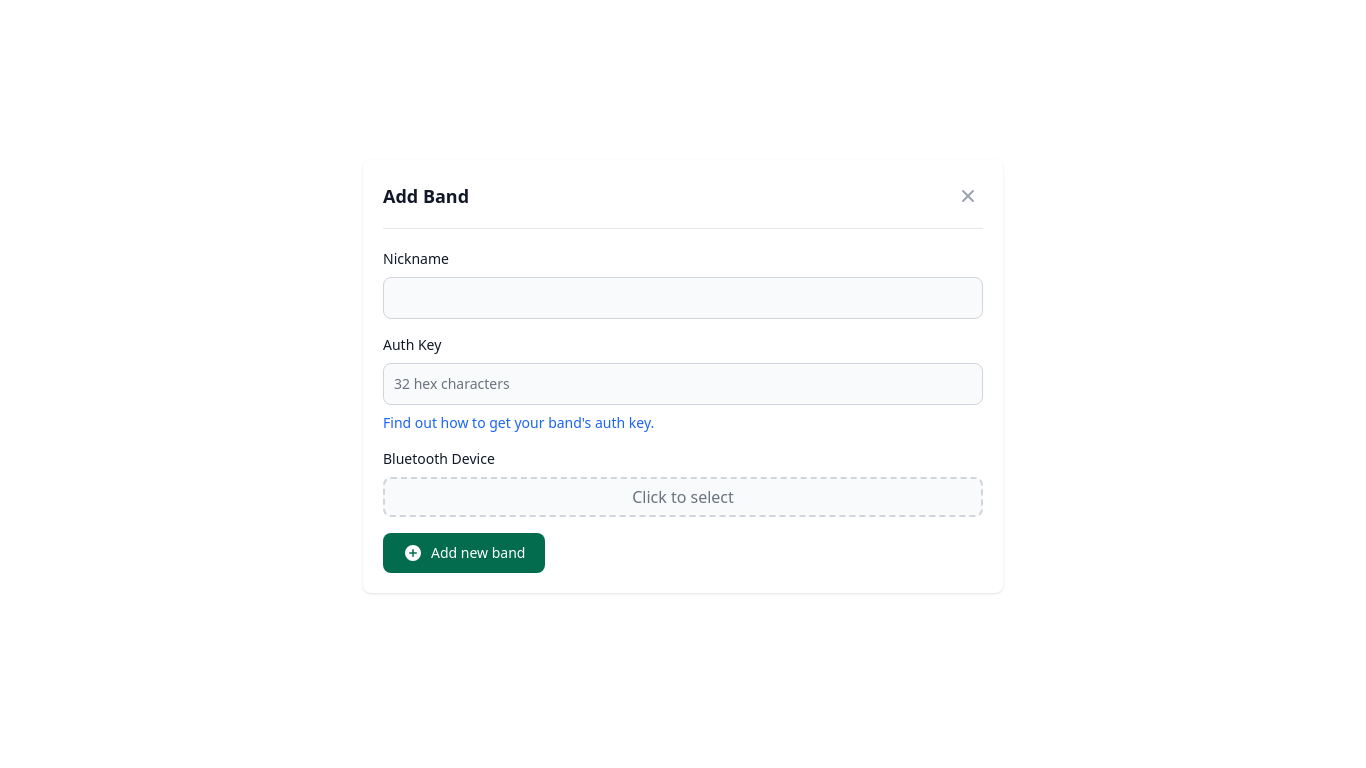
Test: the device not selected warning › should alert the user that a device wasn't selected
Type "Test" into the field with id "nickname" at (683, 298), box [383, 276, 983, 318]
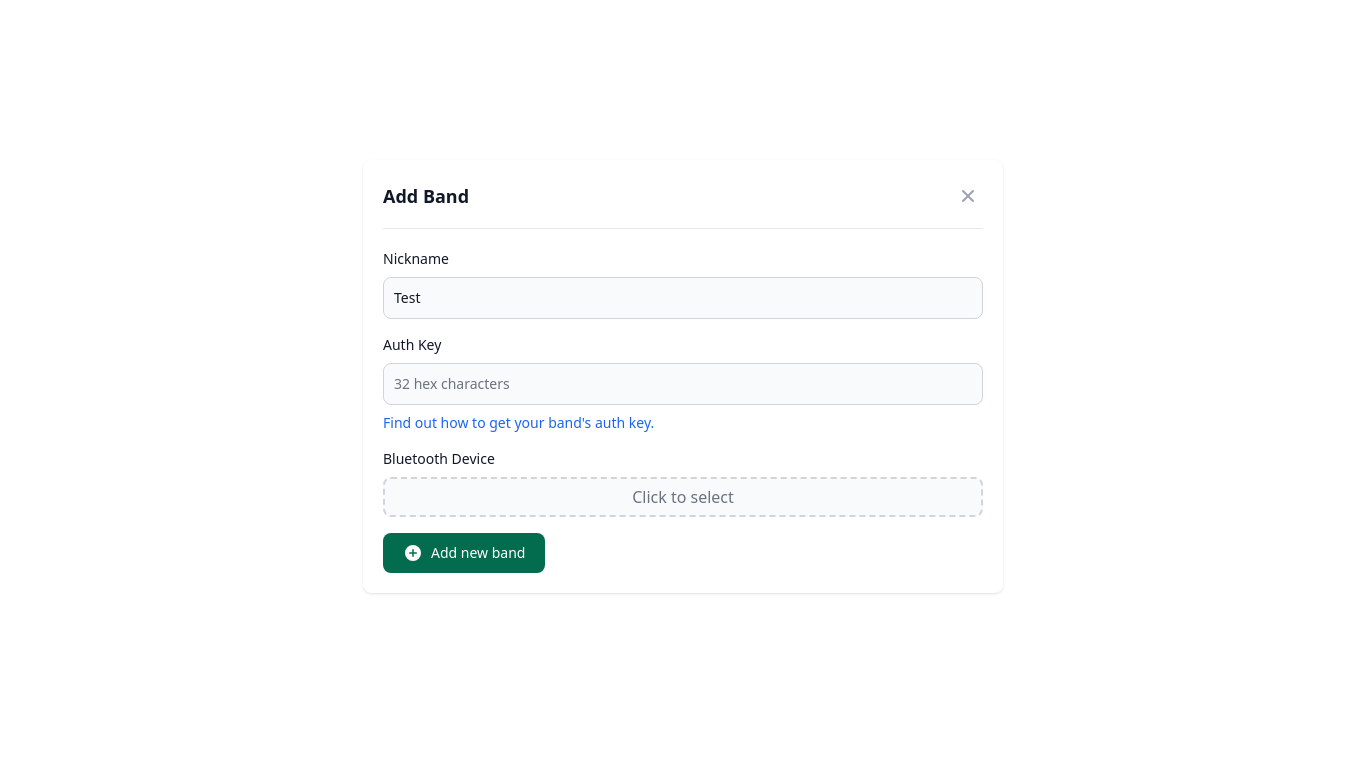
Type "Test" into the password field with id "auth-key" at (683, 384), box [383, 362, 983, 404]
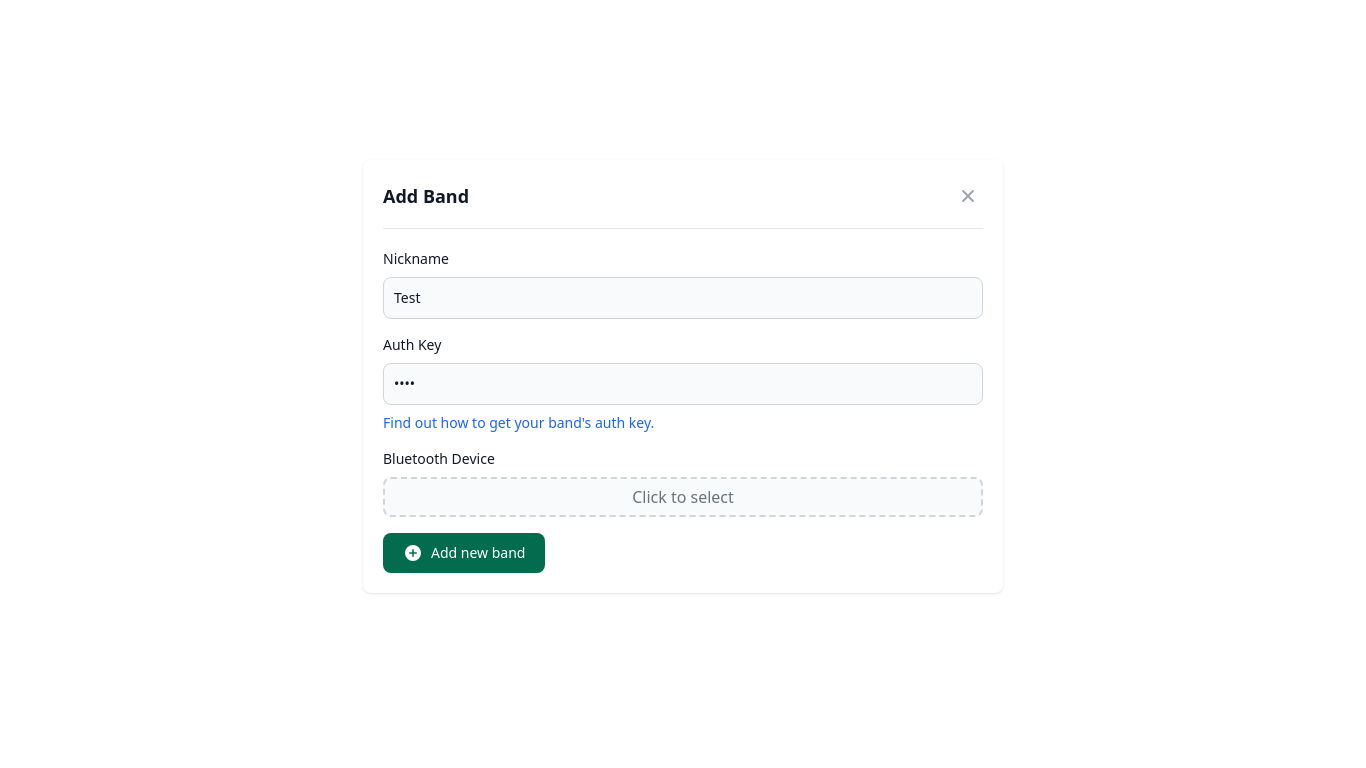
Submit the form, box [383, 248, 983, 572]
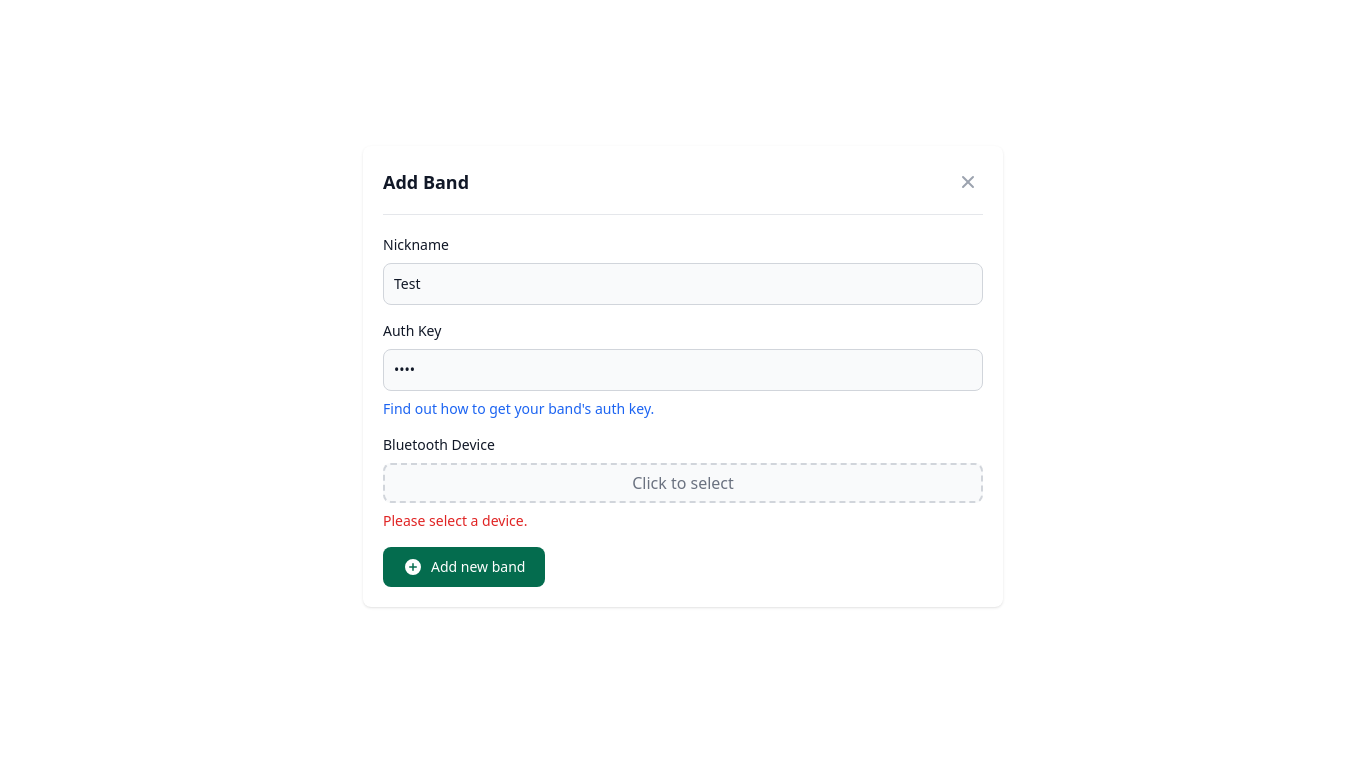
Result: the text "Please select a device." is shown at [383, 510, 527, 530]
